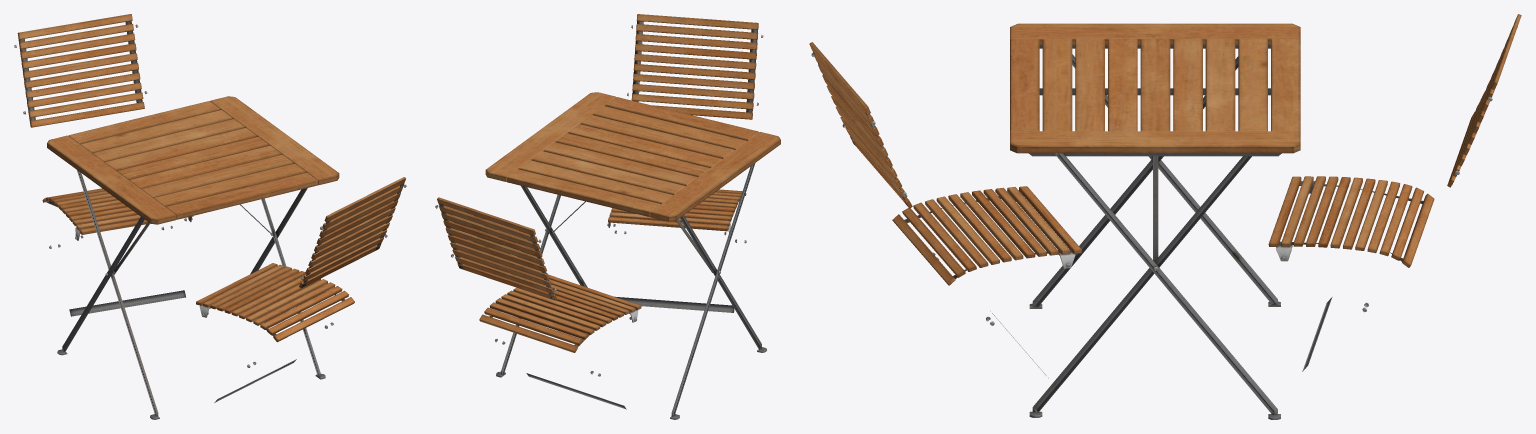
Rendered from table_set.glb.
The picture shows the model from 3 angles, left to right: view 1: azimuth 30°, elevation 25°; view 2: azimuth 150°, elevation 25°; view 3: azimuth 270°, elevation 25°; orthographic projection. The views are drawn at different scales.
Parts seen in each view (by area): view 1: outdoor_table_chair_set_01_table, outdoor_table_chair_set_01_chair_01; view 2: outdoor_table_chair_set_01_chair_01, outdoor_table_chair_set_01_table; view 3: outdoor_table_chair_set_01_table, outdoor_table_chair_set_01_chair_01.
Part boxes in pixels (bbox=[...]): outdoor_table_chair_set_01_table: bbox=[47, 96, 339, 419]; outdoor_table_chair_set_01_chair_01: bbox=[14, 14, 406, 402]; outdoor_table_chair_set_01_chair_01: bbox=[435, 14, 763, 409]; outdoor_table_chair_set_01_table: bbox=[485, 92, 780, 419]; outdoor_table_chair_set_01_table: bbox=[1010, 23, 1300, 419]; outdoor_table_chair_set_01_chair_01: bbox=[809, 14, 1521, 378].
Size of the model in its own units: 0.7404 by 0.8468 by 1.7.
Materials: 2 (2 with a texture image).
